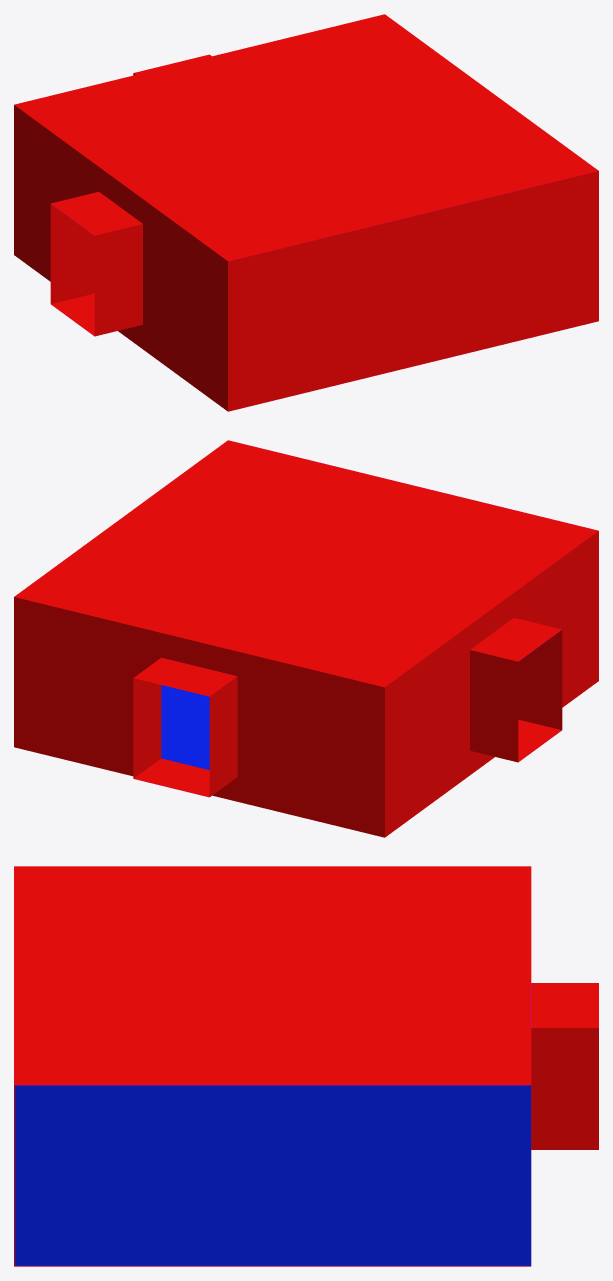
File: StartingAreaTest.gltf
3 renders of one model, top to bottom at view 1: azimuth 30°, elevation 25°; view 2: azimuth 150°, elevation 25°; view 3: azimuth 270°, elevation 25°, orthographic. The views are drawn at different scales.
Parts seen in each view (by area): view 1: Cube-col; view 2: Cube-col; view 3: Cube-col.
Boxes of the visible parts, bbox=[...] form: Cube-col: bbox=[14, 14, 598, 411]; Cube-col: bbox=[14, 440, 598, 837]; Cube-col: bbox=[14, 866, 598, 1266].
Size of the model in its own units: 9.04 by 3.1 by 9.04.
1 material, 1 textured.
